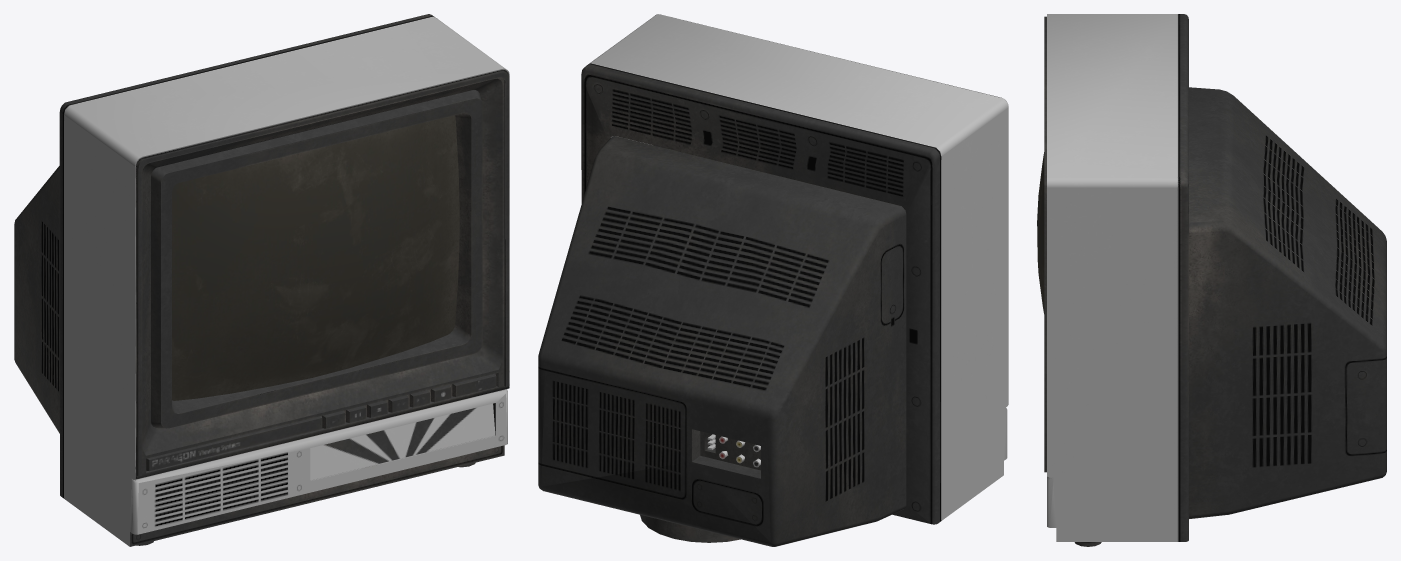
Rendered from television_02.glb.
3 views of the same model, side by side, from view 1: azimuth 30°, elevation 25°; view 2: azimuth 150°, elevation 25°; view 3: azimuth 270°, elevation 25° (orthographic). The views are drawn at different scales.
Parts seen in each view (by area): view 1: television_02_lod; view 2: television_02_lod; view 3: television_02_lod.
Part boxes in pixels (<box>): television_02_lod: <box>14,14,509,546</box>; television_02_lod: <box>538,14,1008,546</box>; television_02_lod: <box>1037,14,1386,546</box>.
Bounding box in the file's own units: 0.4 × 0.4114 × 0.3502.
Materials: 1 (1 with a texture image).
